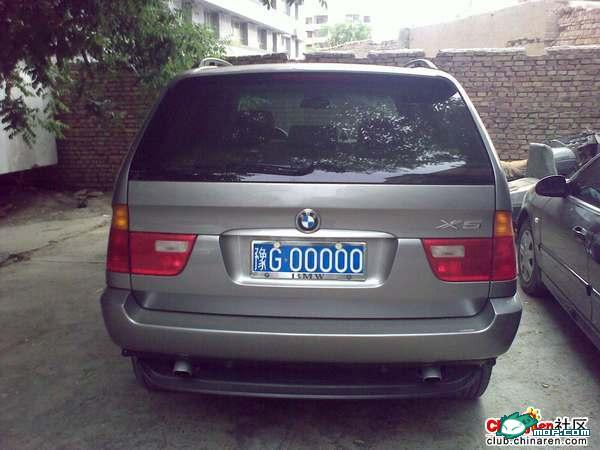plate_number: (250, 241, 366, 277)
